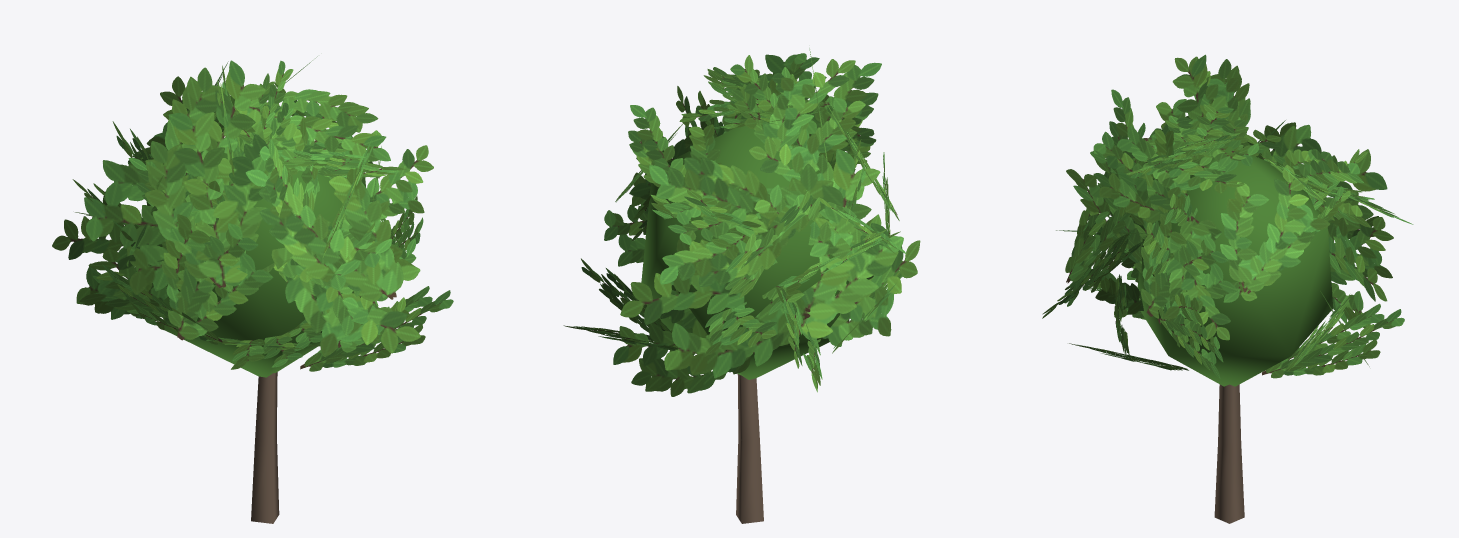
The model's file is TILIA_2.glb.
3 views of the same model, side by side, from view 1: azimuth 30°, elevation 25°; view 2: azimuth 150°, elevation 25°; view 3: azimuth 270°, elevation 25° (orthographic). The views are drawn at different scales.
Visible parts, largest first — view 1: Arv_TILIA_lod2; view 2: Arv_TILIA_lod2; view 3: Arv_TILIA_lod2.
Boxes of the visible parts, x1=… form: Arv_TILIA_lod2: x1=52, y1=56, x2=453, y2=523; Arv_TILIA_lod2: x1=563, y1=48, x2=920, y2=523; Arv_TILIA_lod2: x1=1042, y1=54, x2=1413, y2=523.
Size of the model in its own units: 9.87 by 12.18 by 10.33.
Materials: 3 (1 with a texture image).
